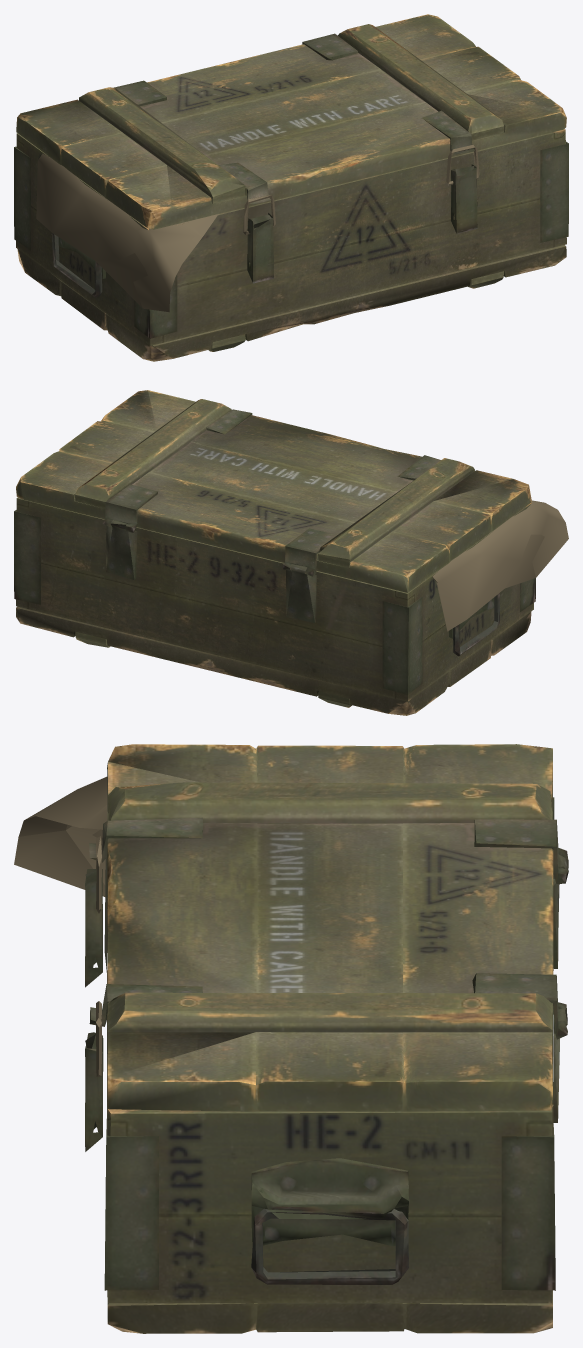
Rendered from MiniBox.fbx.
The picture shows the model from 3 angles, top to bottom: view 1: azimuth 30°, elevation 25°; view 2: azimuth 150°, elevation 25°; view 3: azimuth 270°, elevation 25°; orthographic projection. The views are drawn at different scales.
Visible parts, largest first — view 1: crate; view 2: crate; view 3: crate.
Part boxes in pixels (x1,y1,x2,y2): crate: [14, 14, 568, 361]; crate: [14, 390, 568, 715]; crate: [14, 744, 568, 1333].
Size of what is drawn, in the model's own units: 81.12 by 30.15 by 53.45.
Materials: 1 (1 with a texture image).
